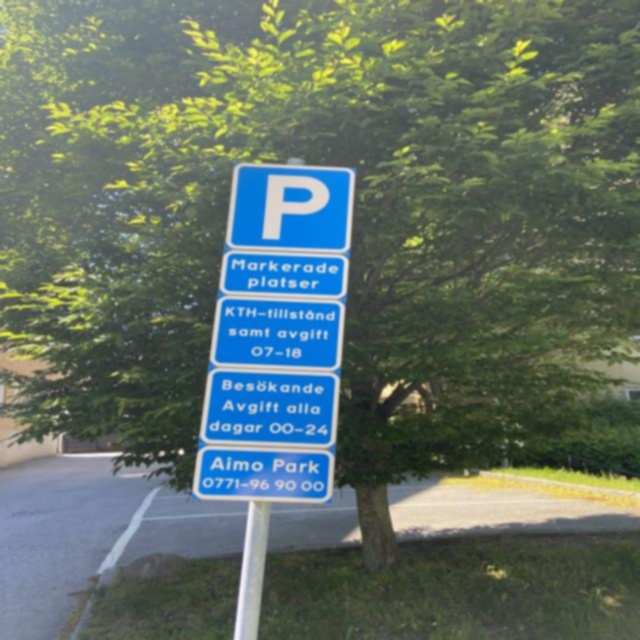P-skylt: (225, 158, 358, 258)
